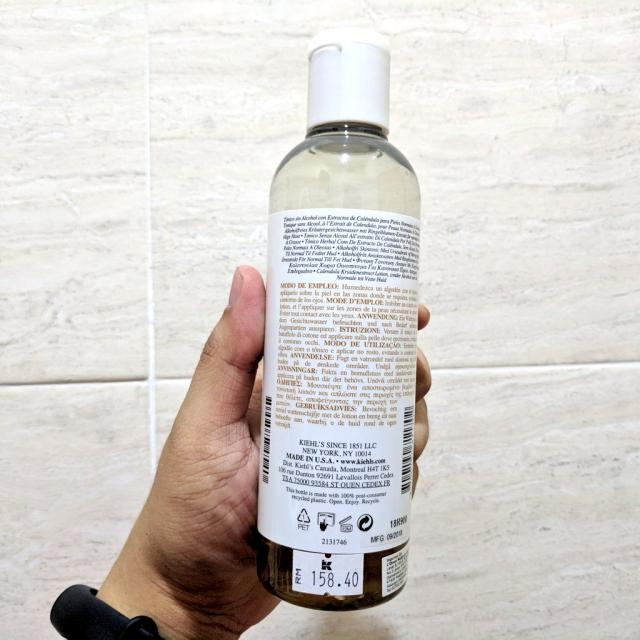plastic: (254, 37, 419, 611)
